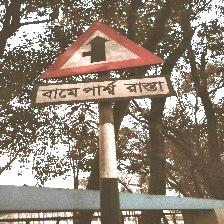Side-road-left: (34, 19, 171, 106)
